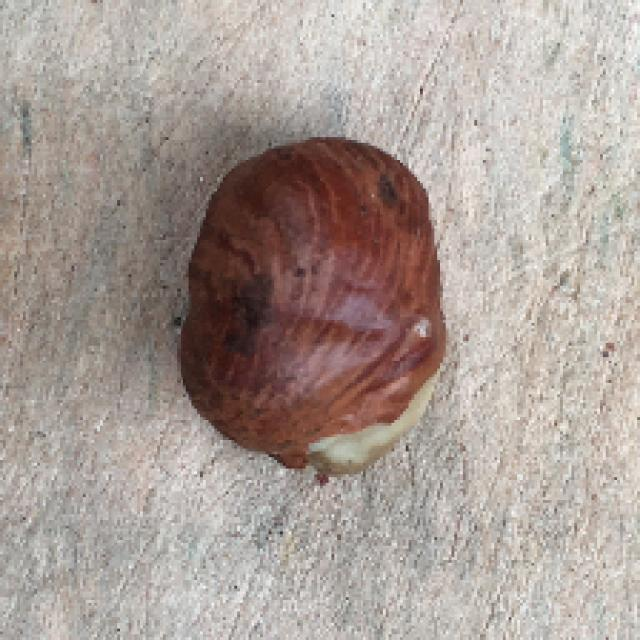hazelnut: (170, 129, 460, 491)
